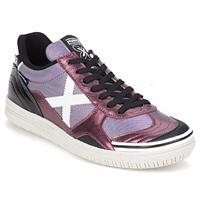shoe: (5, 30, 194, 169)
